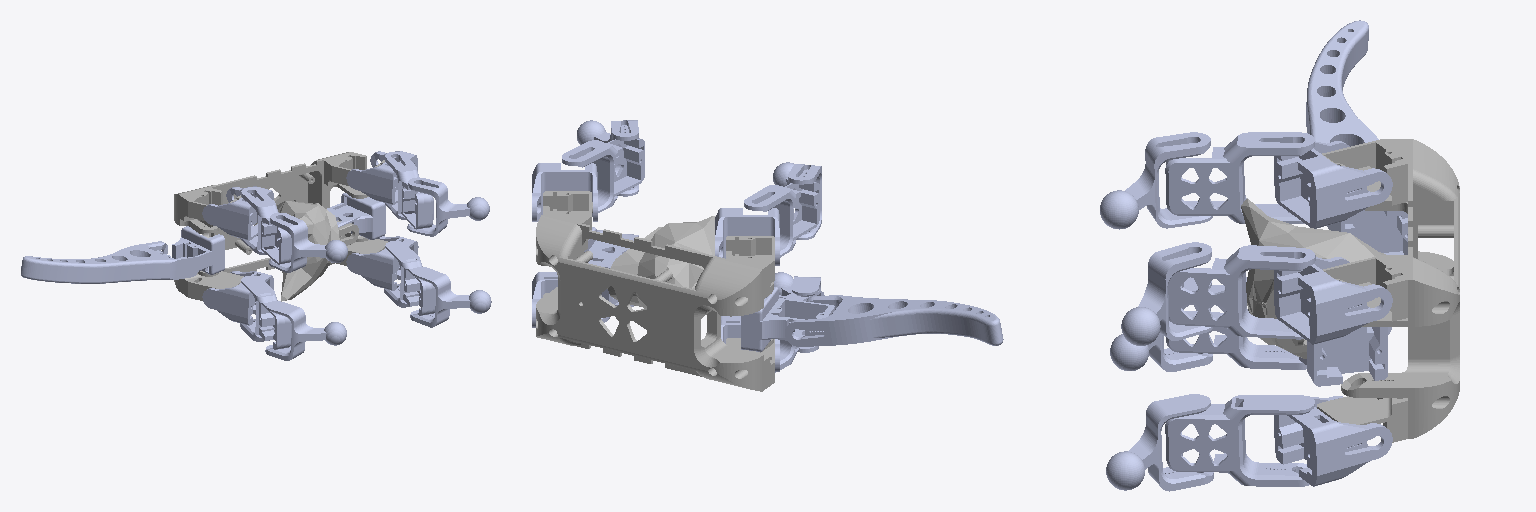
robot.urdf — Full Assem:
<?xml version="1.0" encoding="utf-8"?>
<!-- This URDF was automatically created by SolidWorks to URDF Exporter! Originally created by [author] ([email redacted]) 
     Commit Version: 1.6.0-1-g15f4949  Build Version: 1.6.7594.29634
     For more information, please see http://wiki.ros.org/sw_urdf_exporter -->
<robot
  name="Full Assem">
  <link
    name="base_link">
    <inertial>
      <origin
        xyz="-0.0682072609408734 0.0327421649096228 -0.00132897511700893"
        rpy="0 0 0" />
      <mass
        value="0.138285269027674" />
      <inertia
        ixx="8.05760084050772E-05"
        ixy="4.32059365580448E-06"
        ixz="-3.16976043883762E-06"
        iyy="0.000331047815490767"
        iyz="1.90728480939344E-07"
        izz="0.000376533313619492" />
    </inertial>
    <visual>
      <origin
        xyz="0 0 0"
        rpy="0 0 0" />
      <geometry>
        <mesh
          filename="package://Full Assem/meshes/base_link.STL" />
      </geometry>
      <material
        name="">
        <color
          rgba="0.752941176470588 0.752941176470588 0.752941176470588 1" />
      </material>
    </visual>
    <collision>
      <origin
        xyz="0 0 0"
        rpy="0 0 0" />
      <geometry>
        <mesh
          filename="package://Full Assem/meshes/base_link.STL" />
      </geometry>
    </collision>
  </link>
  <link
    name="Neck">
    <inertial>
      <origin
        xyz="0.0159848383855072 -0.00440158914326229 0.0144106185244699"
        rpy="0 0 0" />
      <mass
        value="0.0146347986521633" />
      <inertia
        ixx="5.5910291335358E-06"
        ixy="-5.21308766568887E-08"
        ixz="-8.67059067321465E-08"
        iyy="4.31175958630068E-06"
        iyz="-3.94831935886997E-07"
        izz="2.97148567354004E-06" />
    </inertial>
    <visual>
      <origin
        xyz="0 0 0"
        rpy="0 0 0" />
      <geometry>
        <mesh
          filename="package://Full Assem/meshes/Neck.STL" />
      </geometry>
      <material
        name="">
        <color
          rgba="0.792156862745098 0.819607843137255 0.933333333333333 1" />
      </material>
    </visual>
    <collision>
      <origin
        xyz="0 0 0"
        rpy="0 0 0" />
      <geometry>
        <mesh
          filename="package://Full Assem/meshes/Neck.STL" />
      </geometry>
    </collision>
  </link>
  <joint
    name="BodyToNeck"
    type="revolute">
    <origin
      xyz="0.0034205 -0.024743 0.01898"
      rpy="0.23873 -1.5708 0" />
    <parent
      link="base_link" />
    <child
      link="Neck" />
    <axis
      xyz="1 0 0" />
    <limit
      lower="0"
      upper="0"
      effort="0"
      velocity="0" />
  </joint>
  <link
    name="Head">
    <inertial>
      <origin
        xyz="-0.00449102933159544 1.24108210514118E-09 -0.0391635016568046"
        rpy="0 0 0" />
      <mass
        value="0.135970457419856" />
      <inertia
        ixx="5.61044053242446E-05"
        ixy="-5.67187199183633E-13"
        ixz="-9.86200043819425E-06"
        iyy="6.51087733988032E-05"
        iyz="-2.87237746980285E-12"
        izz="7.30786343533626E-05" />
    </inertial>
    <visual>
      <origin
        xyz="0 0 0"
        rpy="0 0 0" />
      <geometry>
        <mesh
          filename="package://Full Assem/meshes/Head.STL" />
      </geometry>
      <material
        name="">
        <color
          rgba="0.752941176470588 0.752941176470588 0.752941176470588 1" />
      </material>
    </visual>
    <collision>
      <origin
        xyz="0 0 0"
        rpy="0 0 0" />
      <geometry>
        <mesh
          filename="package://Full Assem/meshes/Head.STL" />
      </geometry>
    </collision>
  </link>
  <joint
    name="NeckToHead"
    type="revolute">
    <origin
      xyz="0.014034 0 0.032614"
      rpy="-3.1284 0 1.5708" />
    <parent
      link="Neck" />
    <child
      link="Head" />
    <axis
      xyz="1 0 0" />
    <limit
      lower="0"
      upper="0"
      effort="0"
      velocity="0" />
  </joint>
  <link
    name="Tail">
    <inertial>
      <origin
        xyz="-0.017797164130695 -0.00440158914327523 0.0144106185245187"
        rpy="0 0 0" />
      <mass
        value="0.0146347986519339" />
      <inertia
        ixx="5.59102913350743E-06"
        ixy="-5.21308766546578E-08"
        ixz="-8.67059067343948E-08"
        iyy="4.31175958628995E-06"
        iyz="-3.94831935897134E-07"
        izz="2.9714856734835E-06" />
    </inertial>
    <visual>
      <origin
        xyz="0 0 0"
        rpy="0 0 0" />
      <geometry>
        <mesh
          filename="package://Full Assem/meshes/Tail.STL" />
      </geometry>
      <material
        name="">
        <color
          rgba="0.792156862745098 0.819607843137255 0.933333333333333 1" />
      </material>
    </visual>
    <collision>
      <origin
        xyz="0 0 0"
        rpy="0 0 0" />
      <geometry>
        <mesh
          filename="package://Full Assem/meshes/Tail.STL" />
      </geometry>
    </collision>
  </link>
  <joint
    name="BodyToTail"
    type="revolute">
    <origin
      xyz="-0.13474 -0.021568 0.012757"
      rpy="2.9243 1.5708 0" />
    <parent
      link="base_link" />
    <child
      link="Tail" />
    <axis
      xyz="1 0 0" />
    <limit
      lower="0"
      upper="0"
      effort="0"
      velocity="0" />
  </joint>
  <link
    name="Tip">
    <inertial>
      <origin
        xyz="-0.00825498895581935 0.0635785261325288 1.77360421054623E-09"
        rpy="0 0 0" />
      <mass
        value="0.0399994779873905" />
      <inertia
        ixx="5.8244001469674E-05"
        ixy="8.39480202981952E-06"
        ixz="-1.7548767237701E-11"
        iyy="6.82855900938092E-06"
        iyz="5.00997775122869E-11"
        izz="6.31554981910278E-05" />
    </inertial>
    <visual>
      <origin
        xyz="0 0 0"
        rpy="0 0 0" />
      <geometry>
        <mesh
          filename="package://Full Assem/meshes/Tip.STL" />
      </geometry>
      <material
        name="">
        <color
          rgba="0.792156862745098 0.819607843137255 0.933333333333333 1" />
      </material>
    </visual>
    <collision>
      <origin
        xyz="0 0 0"
        rpy="0 0 0" />
      <geometry>
        <mesh
          filename="package://Full Assem/meshes/Tip.STL" />
      </geometry>
    </collision>
  </link>
  <joint
    name="TailToTip"
    type="revolute">
    <origin
      xyz="-0.019749 0 0.032614"
      rpy="1.3867 0 1.5708" />
    <parent
      link="Tail" />
    <child
      link="Tip" />
    <axis
      xyz="1 0 0" />
    <limit
      lower="0"
      upper="0"
      effort="0"
      velocity="0" />
  </joint>
  <link
    name="RF Shoulder">
    <inertial>
      <origin
        xyz="-0.000474316425460197 0.00235417848628236 -0.0209875218683509"
        rpy="0 0 0" />
      <mass
        value="0.0125618318177673" />
      <inertia
        ixx="4.15150601191614E-06"
        ixy="-5.36807260602816E-08"
        ixz="-1.38494632923192E-08"
        iyy="2.06353471199157E-06"
        iyz="7.17133368148472E-08"
        izz="4.04522868608802E-06" />
    </inertial>
    <visual>
      <origin
        xyz="0 0 0"
        rpy="0 0 0" />
      <geometry>
        <mesh
          filename="package://Full Assem/meshes/RF Shoulder.STL" />
      </geometry>
      <material
        name="">
        <color
          rgba="0.792156862745098 0.819607843137255 0.933333333333333 1" />
      </material>
    </visual>
    <collision>
      <origin
        xyz="0 0 0"
        rpy="0 0 0" />
      <geometry>
        <mesh
          filename="package://Full Assem/meshes/RF Shoulder.STL" />
      </geometry>
    </collision>
  </link>
  <joint
    name="BodyToRFShoulder"
    type="revolute">
    <origin
      xyz="0.013955 -0.024171 0.069907"
      rpy="1.3459E-05 1.5518 2.0944" />
    <parent
      link="base_link" />
    <child
      link="RF Shoulder" />
    <axis
      xyz="0 1 0" />
    <limit
      lower="0"
      upper="0"
      effort="0"
      velocity="0" />
  </joint>
  <link
    name="RF Leg">
    <inertial>
      <origin
        xyz="0.00267998316901047 -0.0325731607359263 -0.00139551829343013"
        rpy="0 0 0" />
      <mass
        value="0.011736909060324" />
      <inertia
        ixx="4.39673295506609E-06"
        ixy="-4.6645322749739E-07"
        ixz="-3.24844301464191E-08"
        iyy="2.55919880714945E-06"
        iyz="-2.17824236291821E-07"
        izz="6.40992858422596E-06" />
    </inertial>
    <visual>
      <origin
        xyz="0 0 0"
        rpy="0 0 0" />
      <geometry>
        <mesh
          filename="package://Full Assem/meshes/RF Leg.STL" />
      </geometry>
      <material
        name="">
        <color
          rgba="0.792156862745098 0.819607843137255 0.933333333333333 1" />
      </material>
    </visual>
    <collision>
      <origin
        xyz="0 0 0"
        rpy="0 0 0" />
      <geometry>
        <mesh
          filename="package://Full Assem/meshes/RF Leg.STL" />
      </geometry>
    </collision>
  </link>
  <joint
    name="RFShoulderToRFLeg"
    type="revolute">
    <origin
      xyz="0 0.010247 -0.028575"
      rpy="0.89409 0 -3.1416" />
    <parent
      link="RF Shoulder" />
    <child
      link="RF Leg" />
    <axis
      xyz="1 0 0" />
    <limit
      lower="0"
      upper="0"
      effort="0"
      velocity="0" />
  </joint>
  <link
    name="RF Foot">
    <inertial>
      <origin
        xyz="0.00238146619322768 0.0269979393582675 0.00830002907315935"
        rpy="0 0 0" />
      <mass
        value="0.00974966123277393" />
      <inertia
        ixx="3.33101806976041E-06"
        ixy="2.46573083702906E-07"
        ixz="1.09854079929438E-07"
        iyy="2.23261520627661E-06"
        iyz="-1.22069244960045E-06"
        izz="3.54922433209083E-06" />
    </inertial>
    <visual>
      <origin
        xyz="0 0 0"
        rpy="0 0 0" />
      <geometry>
        <mesh
          filename="package://Full Assem/meshes/RF Foot.STL" />
      </geometry>
      <material
        name="">
        <color
          rgba="0.792156862745098 0.819607843137255 0.933333333333333 1" />
      </material>
    </visual>
    <collision>
      <origin
        xyz="0 0 0"
        rpy="0 0 0" />
      <geometry>
        <mesh
          filename="package://Full Assem/meshes/RF Foot.STL" />
      </geometry>
    </collision>
  </link>
  <joint
    name="RFLegToRFFoot"
    type="revolute">
    <origin
      xyz="0 -0.0508 0"
      rpy="-2.4257 0 0" />
    <parent
      link="RF Leg" />
    <child
      link="RF Foot" />
    <axis
      xyz="1 0 0" />
    <limit
      lower="0"
      upper="0"
      effort="0"
      velocity="0" />
  </joint>
  <link
    name="LF Shoulder">
    <inertial>
      <origin
        xyz="-0.000474316771903851 -0.00235416333155274 -0.0209875229060626"
        rpy="0 0 0" />
      <mass
        value="0.0125618282681373" />
      <inertia
        ixx="4.15150509639283E-06"
        ixy="5.36808969307835E-08"
        ixz="-1.38494139264449E-08"
        iyy="2.06353446837834E-06"
        iyz="-7.17138703128221E-08"
        izz="4.04522783865605E-06" />
    </inertial>
    <visual>
      <origin
        xyz="0 0 0"
        rpy="0 0 0" />
      <geometry>
        <mesh
          filename="package://Full Assem/meshes/LF Shoulder.STL" />
      </geometry>
      <material
        name="">
        <color
          rgba="0.792156862745098 0.819607843137255 0.933333333333333 1" />
      </material>
    </visual>
    <collision>
      <origin
        xyz="0 0 0"
        rpy="0 0 0" />
      <geometry>
        <mesh
          filename="package://Full Assem/meshes/LF Shoulder.STL" />
      </geometry>
    </collision>
  </link>
  <joint
    name="BodyToLFShoulder"
    type="revolute">
    <origin
      xyz="0.013955 -0.024171 -0.004388"
      rpy="0 -1.5325 -1.0472" />
    <parent
      link="base_link" />
    <child
      link="LF Shoulder" />
    <axis
      xyz="0 1 0" />
    <limit
      lower="0"
      upper="0"
      effort="0"
      velocity="0" />
  </joint>
  <link
    name="LF Leg">
    <inertial>
      <origin
        xyz="-0.00268001207291033 -0.0325731576328979 -0.00139550613587137"
        rpy="0 0 0" />
      <mass
        value="0.0117369306324913" />
      <inertia
        ixx="4.39673409877325E-06"
        ixy="4.66453656885344E-07"
        ixz="3.24883189243215E-08"
        iyy="2.55920653262038E-06"
        iyz="-2.17824406677191E-07"
        izz="6.40993509791632E-06" />
    </inertial>
    <visual>
      <origin
        xyz="0 0 0"
        rpy="0 0 0" />
      <geometry>
        <mesh
          filename="package://Full Assem/meshes/LF Leg.STL" />
      </geometry>
      <material
        name="">
        <color
          rgba="0.792156862745098 0.819607843137255 0.933333333333333 1" />
      </material>
    </visual>
    <collision>
      <origin
        xyz="0 0 0"
        rpy="0 0 0" />
      <geometry>
        <mesh
          filename="package://Full Assem/meshes/LF Leg.STL" />
      </geometry>
    </collision>
  </link>
  <joint
    name="LFShoulderToLFLeg"
    type="revolute">
    <origin
      xyz="0 -0.010247 -0.028575"
      rpy="0.95691 0 0" />
    <parent
      link="LF Shoulder" />
    <child
      link="LF Leg" />
    <axis
      xyz="1 0 0" />
    <limit
      lower="0"
      upper="0"
      effort="0"
      velocity="0" />
  </joint>
  <link
    name="LF Foot">
    <inertial>
      <origin
        xyz="-0.00238145043582749 0.026997934003842 0.00830002369868804"
        rpy="0 0 0" />
      <mass
        value="0.00974966586341013" />
      <inertia
        ixx="3.33101901330296E-06"
        ixy="-2.46572555334474E-07"
        ixz="-1.09854298585723E-07"
        iyy="2.23261798568568E-06"
        iyz="-1.22069282573199E-06"
        izz="3.54922696207757E-06" />
    </inertial>
    <visual>
      <origin
        xyz="0 0 0"
        rpy="0 0 0" />
      <geometry>
        <mesh
          filename="package://Full Assem/meshes/LF Foot.STL" />
      </geometry>
      <material
        name="">
        <color
          rgba="0.792156862745098 0.819607843137255 0.933333333333333 1" />
      </material>
    </visual>
    <collision>
      <origin
        xyz="0 0 0"
        rpy="0 0 0" />
      <geometry>
        <mesh
          filename="package://Full Assem/meshes/LF Foot.STL" />
      </geometry>
    </collision>
  </link>
  <joint
    name="LFLegToLFFoot"
    type="revolute">
    <origin
      xyz="0 -0.0508 0"
      rpy="-2.681 0 0" />
    <parent
      link="LF Leg" />
    <child
      link="LF Foot" />
    <axis
      xyz="1 0 0" />
    <limit
      lower="0"
      upper="0"
      effort="0"
      velocity="0" />
  </joint>
  <link
    name="RB Shoulder">
    <inertial>
      <origin
        xyz="-0.000474316425329302 0.00881436601935048 -0.0209875218676733"
        rpy="0 0 0" />
      <mass
        value="0.0125618318184107" />
      <inertia
        ixx="4.15150601207342E-06"
        ixy="-5.3680725957185E-08"
        ixz="-1.38494633382416E-08"
        iyy="2.06353471205731E-06"
        iyz="7.17133369445333E-08"
        izz="4.04522868608681E-06" />
    </inertial>
    <visual>
      <origin
        xyz="0 0 0"
        rpy="0 0 0" />
      <geometry>
        <mesh
          filename="package://Full Assem/meshes/RB Shoulder.STL" />
      </geometry>
      <material
        name="">
        <color
          rgba="0.792156862745098 0.819607843137255 0.933333333333333 1" />
      </material>
    </visual>
    <collision>
      <origin
        xyz="0 0 0"
        rpy="0 0 0" />
      <geometry>
        <mesh
          filename="package://Full Assem/meshes/RB Shoulder.STL" />
      </geometry>
    </collision>
  </link>
  <joint
    name="BodyToRBShoulder"
    type="revolute">
    <origin
      xyz="-0.1138 -0.020941 0.069907"
      rpy="0 1.54 2.0944" />
    <parent
      link="base_link" />
    <child
      link="RB Shoulder" />
    <axis
      xyz="0 1 0" />
    <limit
      lower="0"
      upper="0"
      effort="0"
      velocity="0" />
  </joint>
  <link
    name="RB Leg">
    <inertial>
      <origin
        xyz="0.00267998316935485 -0.0325731607358588 -0.00139551829292422"
        rpy="0 0 0" />
      <mass
        value="0.011736909058088" />
      <inertia
        ixx="4.39673295492468E-06"
        ixy="-4.6645322717399E-07"
        ixz="-3.24844299357648E-08"
        iyy="2.55919880672397E-06"
        iyz="-2.17824236053316E-07"
        izz="6.40992858393991E-06" />
    </inertial>
    <visual>
      <origin
        xyz="0 0 0"
        rpy="0 0 0" />
      <geometry>
        <mesh
          filename="package://Full Assem/meshes/RB Leg.STL" />
      </geometry>
      <material
        name="">
        <color
          rgba="0.792156862745098 0.819607843137255 0.933333333333333 1" />
      </material>
    </visual>
    <collision>
      <origin
        xyz="0 0 0"
        rpy="0 0 0" />
      <geometry>
        <mesh
          filename="package://Full Assem/meshes/RB Leg.STL" />
      </geometry>
    </collision>
  </link>
  <joint
    name="RBShoulderToRBLeg"
    type="revolute">
    <origin
      xyz="0 0.016707 -0.028575"
      rpy="0.99084 0 -3.1416" />
    <parent
      link="RB Shoulder" />
    <child
      link="RB Leg" />
    <axis
      xyz="1 0 0" />
    <limit
      lower="0"
      upper="0"
      effort="0"
      velocity="0" />
  </joint>
  <link
    name="RB Foot">
    <inertial>
      <origin
        xyz="0.00238146619063317 0.0269979393619759 0.00830002907374391"
        rpy="0 0 0" />
      <mass
        value="0.00974966123053937" />
      <inertia
        ixx="3.33101806874862E-06"
        ixy="2.46573083253308E-07"
        ixz="1.09854079791887E-07"
        iyy="2.23261520577513E-06"
        iyz="-1.22069244943019E-06"
        izz="3.54922433101293E-06" />
    </inertial>
    <visual>
      <origin
        xyz="0 0 0"
        rpy="0 0 0" />
      <geometry>
        <mesh
          filename="package://Full Assem/meshes/RB Foot.STL" />
      </geometry>
      <material
        name="">
        <color
          rgba="0.792156862745098 0.819607843137255 0.933333333333333 1" />
      </material>
    </visual>
    <collision>
      <origin
        xyz="0 0 0"
        rpy="0 0 0" />
      <geometry>
        <mesh
          filename="package://Full Assem/meshes/RB Foot.STL" />
      </geometry>
    </collision>
  </link>
  <joint
    name="RBLegToRBFoot"
    type="revolute">
    <origin
      xyz="0 -0.0508 0"
      rpy="-2.8029 0 0" />
    <parent
      link="RB Leg" />
    <child
      link="RB Foot" />
    <axis
      xyz="1 0 0" />
    <limit
      lower="0"
      upper="0"
      effort="0"
      velocity="0" />
  </joint>
  <link
    name="LB Shoulder">
    <inertial>
      <origin
        xyz="-0.000474316773874321 -0.00881436642239093 -0.0209875229043317"
        rpy="0 0 0" />
      <mass
        value="0.0125618282700298" />
      <inertia
        ixx="4.15150509703514E-06"
        ixy="5.36808969177835E-08"
        ixz="-1.38494135486798E-08"
        iyy="2.06353446866301E-06"
        iyz="-7.17138703214505E-08"
        izz="4.04522783892477E-06" />
    </inertial>
    <visual>
      <origin
        xyz="0 0 0"
        rpy="0 0 0" />
      <geometry>
        <mesh
          filename="package://Full Assem/meshes/LB Shoulder.STL" />
      </geometry>
      <material
        name="">
        <color
          rgba="0.792156862745098 0.819607843137255 0.933333333333333 1" />
      </material>
    </visual>
    <collision>
      <origin
        xyz="0 0 0"
        rpy="0 0 0" />
      <geometry>
        <mesh
          filename="package://Full Assem/meshes/LB Shoulder.STL" />
      </geometry>
    </collision>
  </link>
  <joint
    name="BodyToLBShoulder"
    type="revolute">
    <origin
      xyz="-0.1138 -0.020941 -0.004388"
      rpy="0 -1.5494 -1.0472" />
    <parent
      link="base_link" />
    <child
      link="LB Shoulder" />
    <axis
      xyz="0 1 0" />
    <limit
      lower="0"
      upper="0"
      effort="0"
      velocity="0" />
  </joint>
  <link
    name="LB Leg">
    <inertial>
      <origin
        xyz="-0.00268001207654399 -0.0325731576309069 -0.00139550613522728"
        rpy="0 0 0" />
      <mass
        value="0.0117369306355149" />
      <inertia
        ixx="4.39673409994151E-06"
        ixy="4.66453656830886E-07"
        ixz="3.24883189126114E-08"
        iyy="2.55920653293208E-06"
        iyz="-2.17824407386074E-07"
        izz="6.4099350991508E-06" />
    </inertial>
    <visual>
      <origin
        xyz="0 0 0"
        rpy="0 0 0" />
      <geometry>
        <mesh
          filename="package://Full Assem/meshes/LB Leg.STL" />
      </geometry>
      <material
        name="">
        <color
          rgba="0.792156862745098 0.819607843137255 0.933333333333333 1" />
      </material>
    </visual>
    <collision>
      <origin
        xyz="0 0 0"
        rpy="0 0 0" />
      <geometry>
        <mesh
          filename="package://Full Assem/meshes/LB Leg.STL" />
      </geometry>
    </collision>
  </link>
  <joint
    name="LBShoulderToLBLeg"
    type="revolute">
    <origin
      xyz="0 -0.016707 -0.028575"
      rpy="0.93449 0 0" />
    <parent
      link="LB Shoulder" />
    <child
      link="LB Leg" />
    <axis
      xyz="1 0 0" />
    <limit
      lower="0"
      upper="0"
      effort="0"
      velocity="0" />
  </joint>
  <link
    name="LB Foot">
    <inertial>
      <origin
        xyz="-0.00238145043352883 0.0269979340055478 0.00830002370213417"
        rpy="0 0 0" />
      <mass
        value="0.00974966586923574" />
      <inertia
        ixx="3.33101901229283E-06"
        ixy="-2.46572555112808E-07"
        ixz="-1.09854298481514E-07"
        iyy="2.23261798553241E-06"
        iyz="-1.22069282520095E-06"
        izz="3.54922696152297E-06" />
    </inertial>
    <visual>
      <origin
        xyz="0 0 0"
        rpy="0 0 0" />
      <geometry>
        <mesh
          filename="package://Full Assem/meshes/LB Foot.STL" />
      </geometry>
      <material
        name="">
        <color
          rgba="0.792156862745098 0.819607843137255 0.933333333333333 1" />
      </material>
    </visual>
    <collision>
      <origin
        xyz="0 0 0"
        rpy="0 0 0" />
      <geometry>
        <mesh
          filename="package://Full Assem/meshes/LB Foot.STL" />
      </geometry>
    </collision>
  </link>
  <joint
    name="LBLegToLBFoot"
    type="revolute">
    <origin
      xyz="0 -0.0508 0"
      rpy="-2.6042 0 0" />
    <parent
      link="LB Leg" />
    <child
      link="LB Foot" />
    <axis
      xyz="1 0 0" />
    <limit
      lower="0"
      upper="0"
      effort="0"
      velocity="0" />
  </joint>
</robot>

--- Render facts (derived) ---
3 views of the same robot in one strip: view 1: azimuth 30°, elevation 25°; view 2: azimuth 150°, elevation 25°; view 3: azimuth 270°, elevation 25° (orthographic).
Model Full Assem with 17 links and 16 joints (16 revolute), rooted at base_link, posed every joint at zero.
Visible links, largest first — view 1: base_link, Tip, Head, RF Leg, RB Leg, LF Foot, LB Leg, LF Leg, RB Foot, LB Foot, RF Foot, RB Shoulder (+5 smaller); view 2: base_link, Tip, Head, RF Leg, RB Leg, Tail, RF Shoulder, RB Shoulder, RF Foot, RB Foot, LB Foot, Neck (+3 smaller); view 3: base_link, LF Leg, RF Leg, RB Leg, RF Shoulder, RB Shoulder, LF Shoulder, Tip, Head, LF Foot, RB Foot, RF Foot (+4 smaller).
Boxes of the visible links, x1=… form: base_link: x1=174, y1=152, x2=387, y2=300; Tip: x1=21, y1=241, x2=200, y2=283; Head: x1=277, y1=201, x2=358, y2=301; RF Leg: x1=385, y1=152, x2=433, y2=229; RB Leg: x1=240, y1=187, x2=291, y2=264; LF Foot: x1=410, y1=267, x2=491, y2=327; LB Leg: x1=240, y1=276, x2=291, y2=349; LF Leg: x1=384, y1=241, x2=435, y2=315; RB Foot: x1=269, y1=213, x2=347, y2=272; LB Foot: x1=265, y1=301, x2=346, y2=360; RF Foot: x1=407, y1=177, x2=489, y2=236; RB Shoulder: x1=202, y1=186, x2=273, y2=240; base_link: x1=536, y1=191, x2=774, y2=391; Tip: x1=785, y1=295, x2=1003, y2=346; Head: x1=607, y1=216, x2=715, y2=308; RF Leg: x1=562, y1=138, x2=644, y2=212; RB Leg: x1=744, y1=182, x2=819, y2=257; Tail: x1=741, y1=287, x2=834, y2=351; RF Shoulder: x1=532, y1=163, x2=597, y2=221; RB Shoulder: x1=715, y1=208, x2=779, y2=265; RF Foot: x1=577, y1=120, x2=638, y2=196; RB Foot: x1=773, y1=162, x2=821, y2=239; LB Foot: x1=774, y1=272, x2=820, y2=352; Neck: x1=584, y1=227, x2=629, y2=268; base_link: x1=1317, y1=139, x2=1459, y2=442; LF Leg: x1=1165, y1=395, x2=1314, y2=486; RF Leg: x1=1168, y1=245, x2=1315, y2=339; RB Leg: x1=1165, y1=132, x2=1314, y2=223; RF Shoulder: x1=1274, y1=257, x2=1392, y2=344; RB Shoulder: x1=1274, y1=141, x2=1392, y2=228; LF Shoulder: x1=1274, y1=396, x2=1392, y2=486; Tip: x1=1306, y1=20, x2=1378, y2=146; Head: x1=1241, y1=198, x2=1385, y2=358; LF Foot: x1=1106, y1=394, x2=1213, y2=491; RB Foot: x1=1100, y1=132, x2=1212, y2=229; RF Foot: x1=1121, y1=242, x2=1212, y2=345.
Size in the robot's own frame: 0.371 by 0.1751 by 0.1227 metres.
Meshes: 17 distinct files referenced, 17 mesh visuals loaded (17 binary STL).